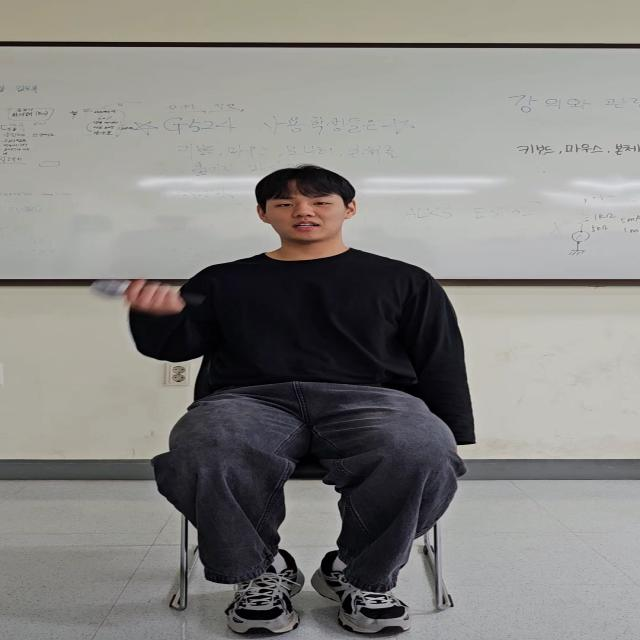curl: (93, 254, 239, 372)
